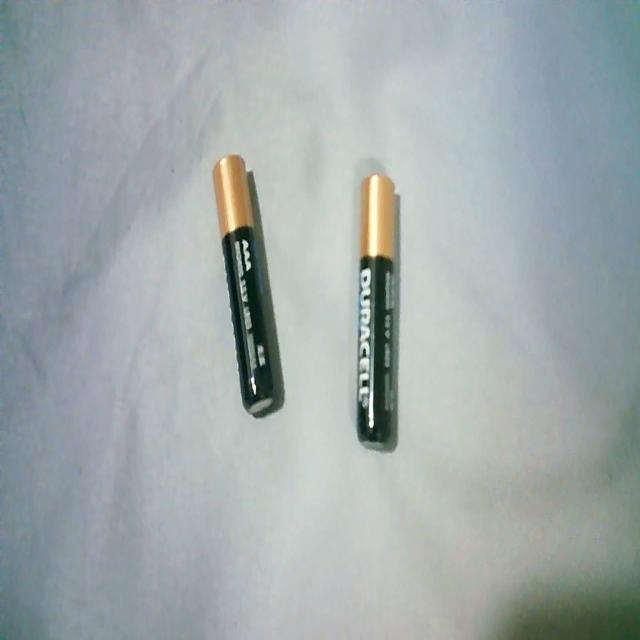AAA: (209, 147, 283, 422), (354, 165, 403, 453)
